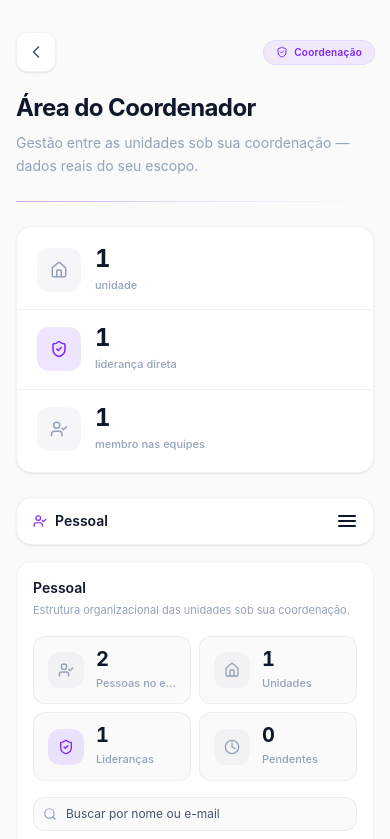
Test: Central por abas (PR C) — sobre os painéis da PR B (#250) › navegação mobile animada (PR2) — hamburger + menu compacto das abas › abrir: monta o menu com as 9 abas, destaca a aba ativa e alterna o aria do botão
Click the button with test id "coordinator-mobile-menu-button".
click(347, 521)  # box x1=327 y1=501 x2=367 y2=541
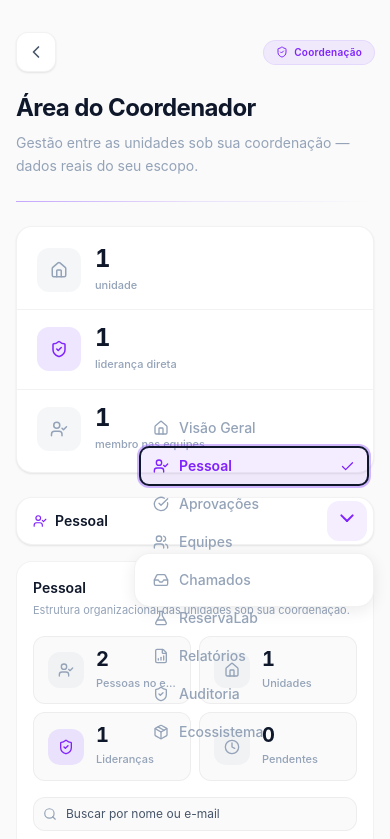
Now the button with test id "coordinator-mobile-menu-button" is expanded, box x1=327 y1=501 x2=367 y2=541
Now the element with test id "coordinator-mobile-menu" is shown, box x1=134 y1=553 x2=374 y2=607
